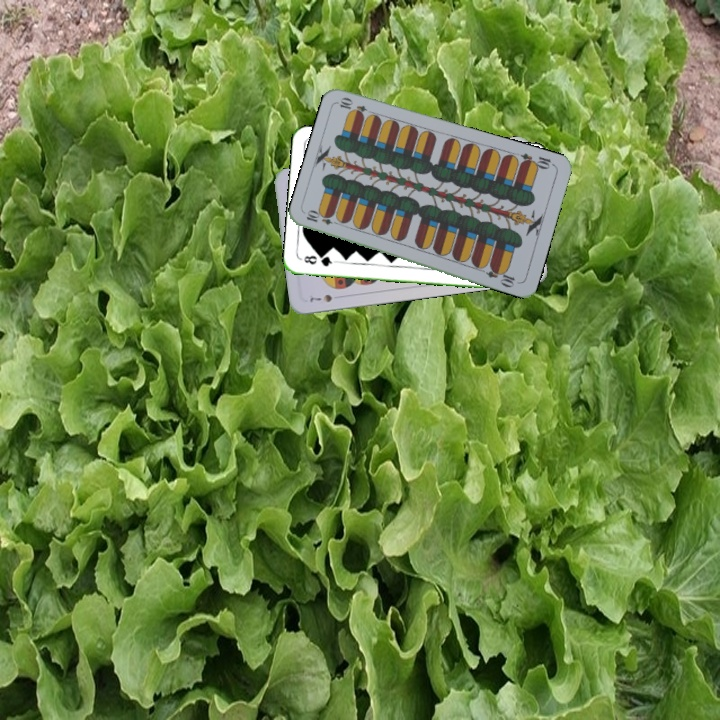E10: (516, 149, 557, 172), (302, 208, 343, 228)
G8: (300, 252, 339, 269)
S7: (306, 290, 335, 305)
